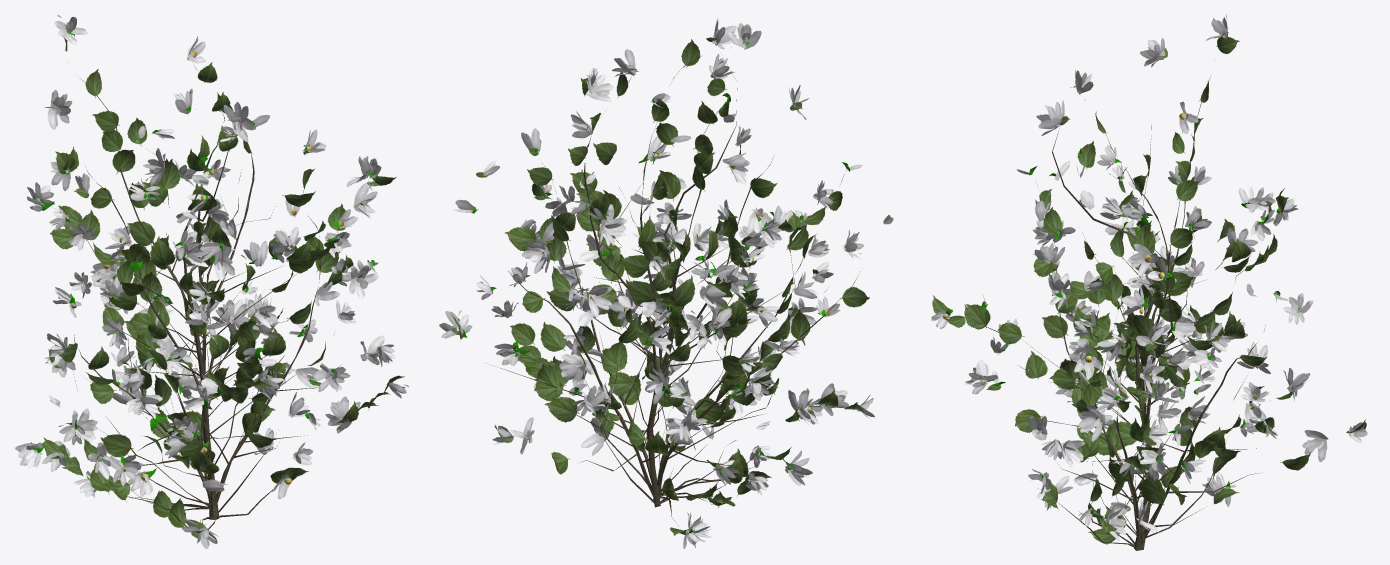
File: oleander.glb
3 renders of one model, left to right at view 1: azimuth 30°, elevation 25°; view 2: azimuth 150°, elevation 25°; view 3: azimuth 270°, elevation 25°, orthographic. The views are drawn at different scales.
Visible parts, largest first — view 1: bark_01_largeF_w; view 2: bark_01_largeF_w; view 3: bark_01_largeF_w.
Part boxes in pixels (x1=…): bark_01_largeF_w: x1=15, y1=15, x2=408, y2=549; bark_01_largeF_w: x1=439, y1=18, x2=893, y2=548; bark_01_largeF_w: x1=931, y1=14, x2=1367, y2=550.
Bounding box in the file's own units: 1.48 × 1.93 × 1.61.
3 materials, 3 textured.
